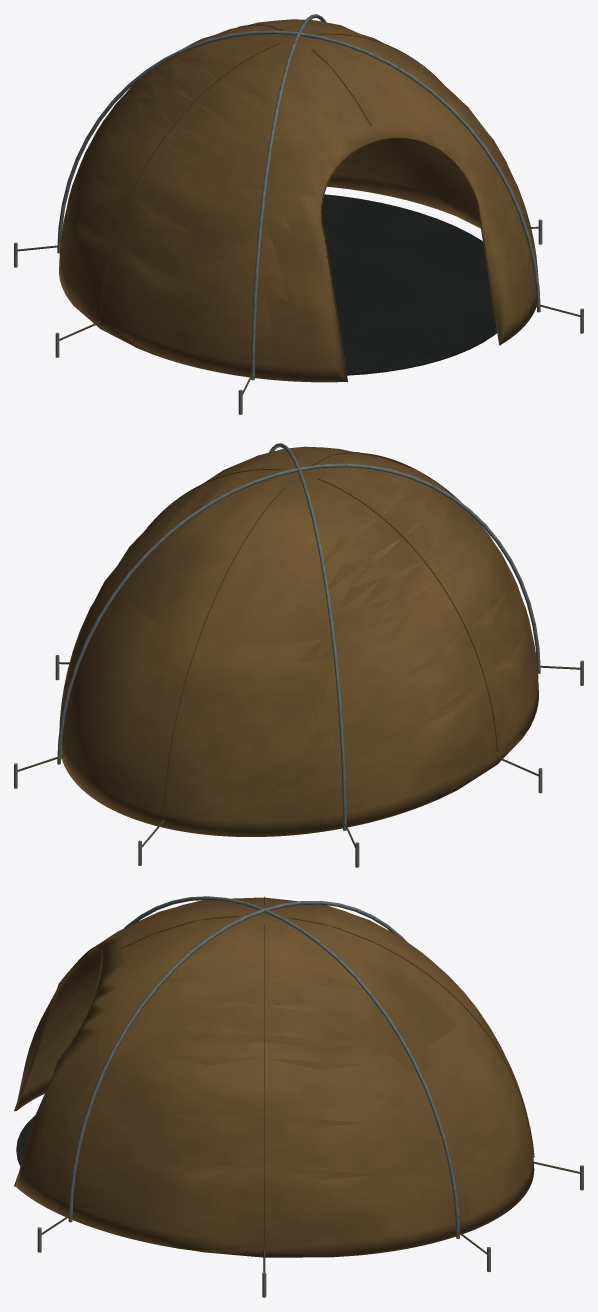
File: level_camp_tent_fitted_east_dome.glb
The picture shows the model from 3 angles, top to bottom: view 1: azimuth 30°, elevation 25°; view 2: azimuth 150°, elevation 25°; view 3: azimuth 270°, elevation 25°; orthographic projection.
Visible parts, largest first — view 1: level_camp_tent_fitted_east_dome; view 2: level_camp_tent_fitted_east_dome; view 3: level_camp_tent_fitted_east_dome.
Boxes of the visible parts, bbox=[...] form: level_camp_tent_fitted_east_dome: bbox=[14, 14, 583, 414]; level_camp_tent_fitted_east_dome: bbox=[14, 443, 583, 867]; level_camp_tent_fitted_east_dome: bbox=[14, 896, 583, 1297].
Bounding box in the file's own units: 3.44 × 1.9 × 3.49.
Materials: 5 (5 with a texture image).
